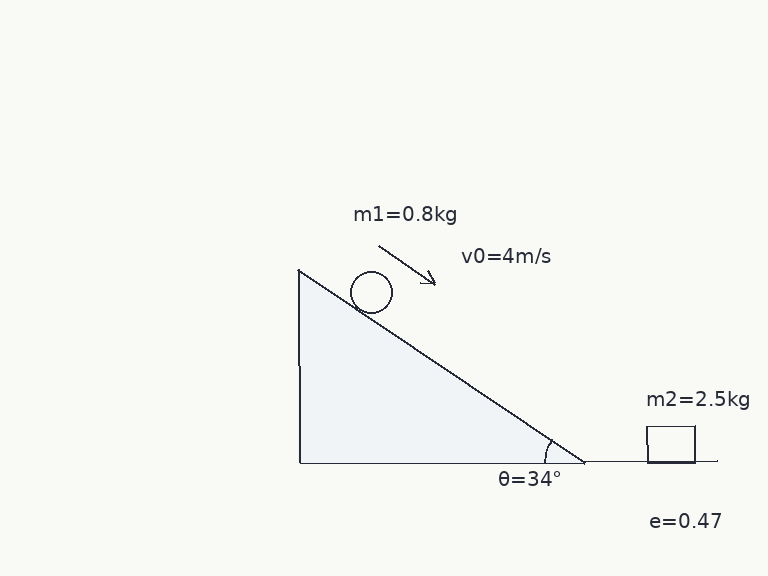ball: (348, 269, 394, 315)
block: (645, 424, 697, 464)
ramp: (296, 267, 587, 464)
